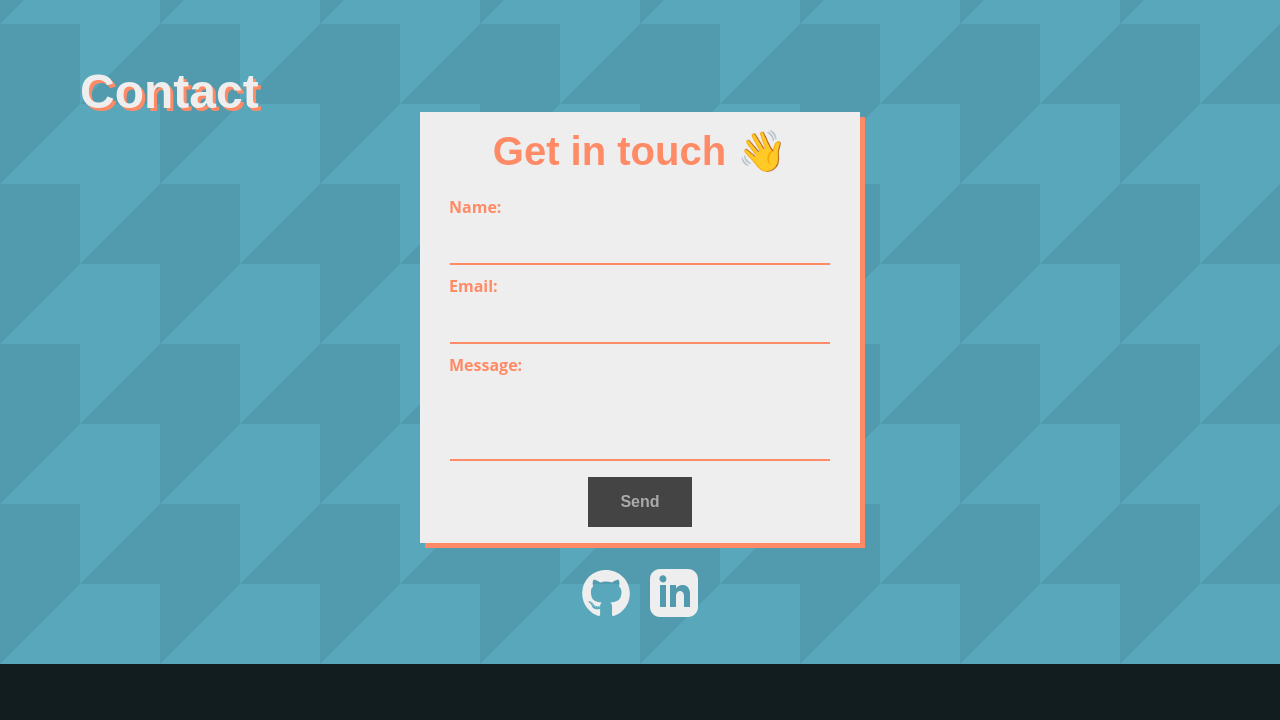
Test: <ContactSection /> › displays try again message on server error
The width and height of the screenshot is (1280, 720).
Type "matt" into the field labelled "Name:" at (640,245), box [450,225,830,265]
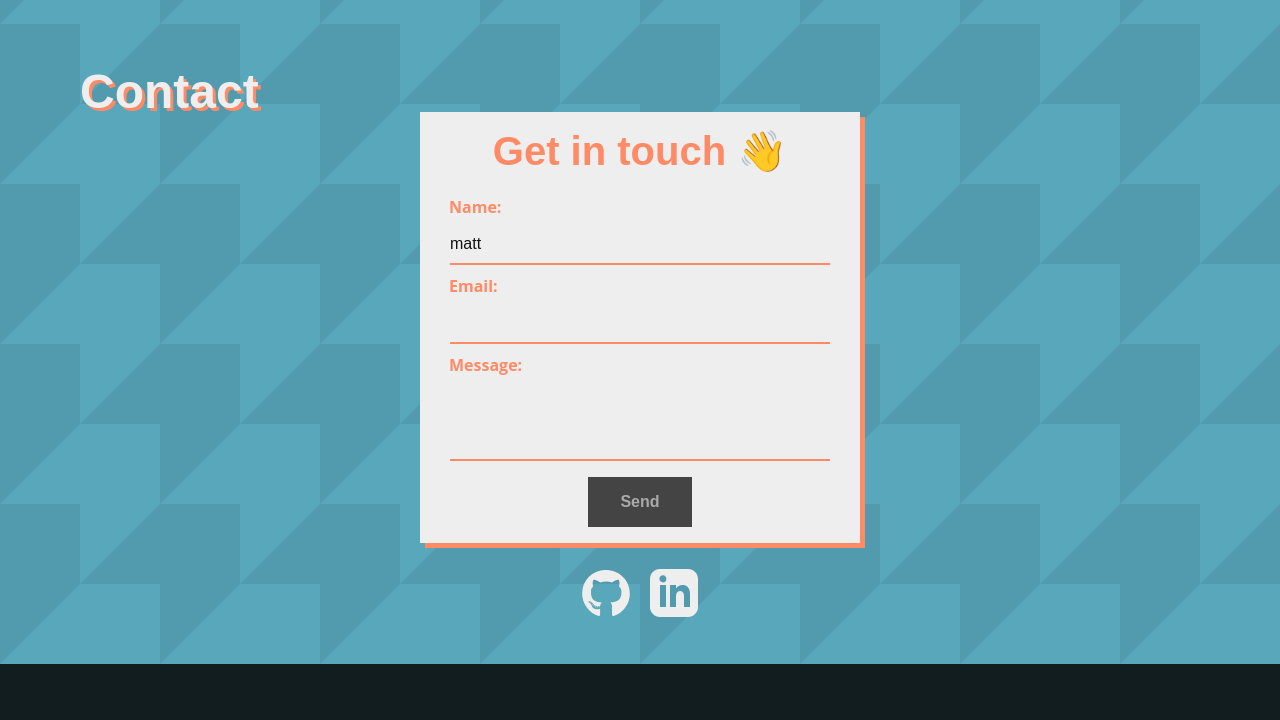
Type "hi@test.com" into the field labelled "Email:" at (640,324), box [450,304,830,344]
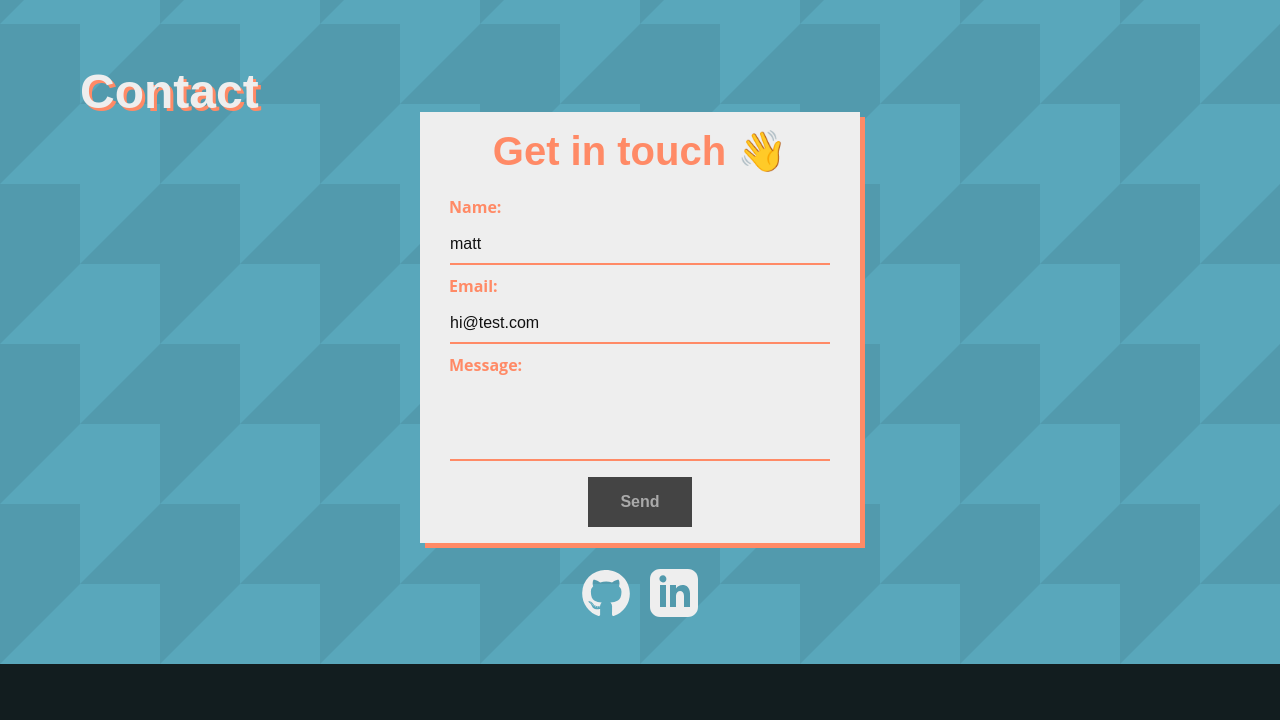
Type "Hello!" into the text box labelled "Message:" at (640,421), box [450,381,830,461]
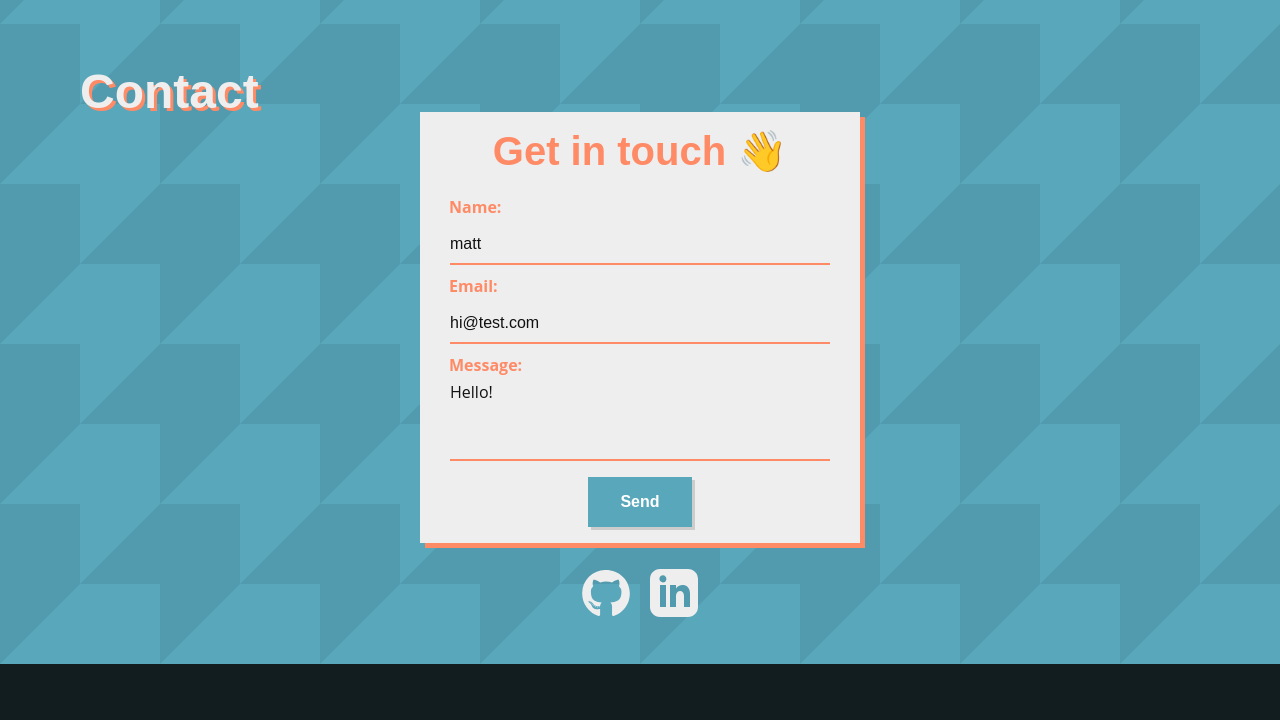
Click the button "Send" at (640,502), box [588,477,692,527]
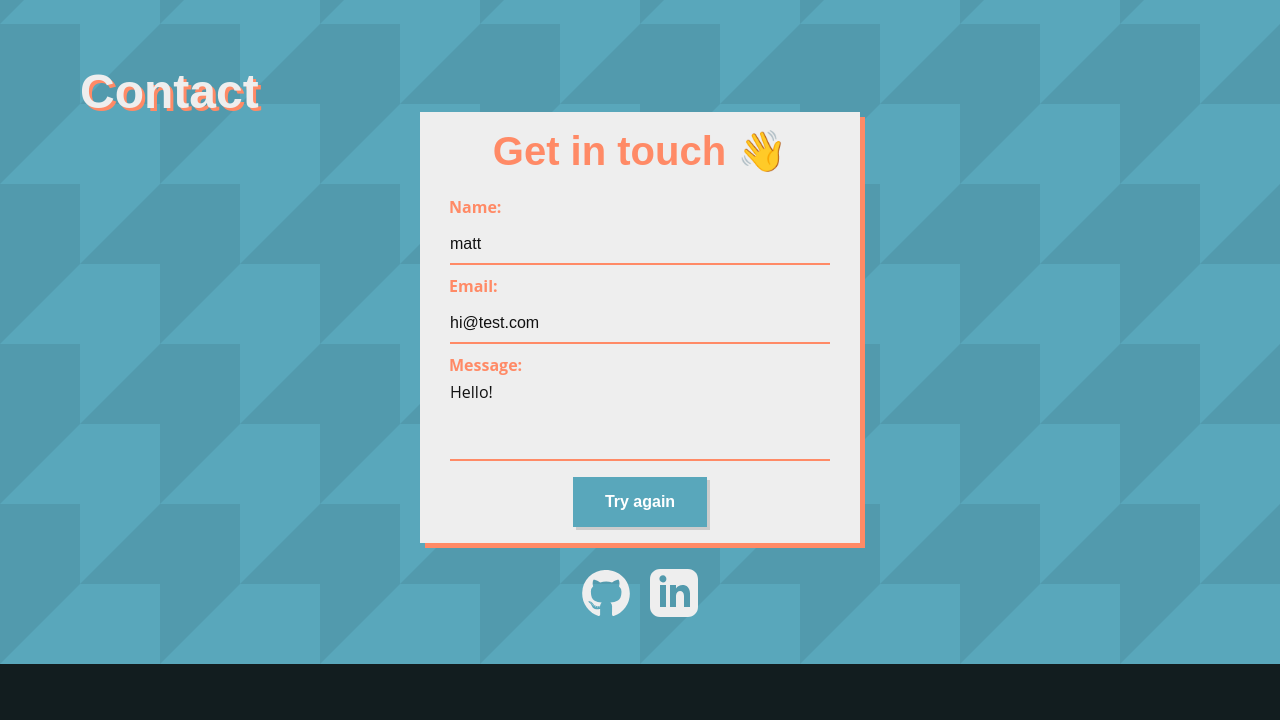
Expected: the button "Try again" is shown, [573,477,707,527]
